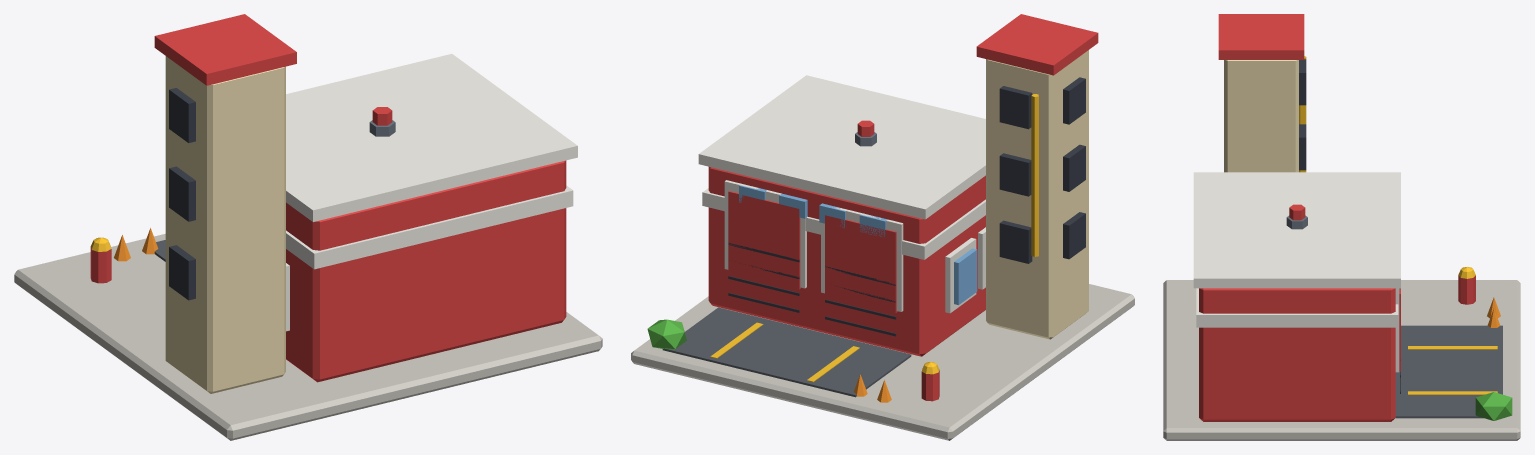
File: bombeiros.glb
3 renders of one model, left to right at view 1: azimuth 30°, elevation 25°; view 2: azimuth 150°, elevation 25°; view 3: azimuth 270°, elevation 25°, orthographic. The views are drawn at different scales.
Parts seen in each view (by area): view 1: corpo; view 2: corpo; view 3: corpo.
Part boxes in pixels (<box>): corpo: <box>14,14,602,440</box>; corpo: <box>631,14,1134,440</box>; corpo: <box>1163,14,1520,440</box>.
Bounding box in the file's own units: 2 × 1.74 × 2.
